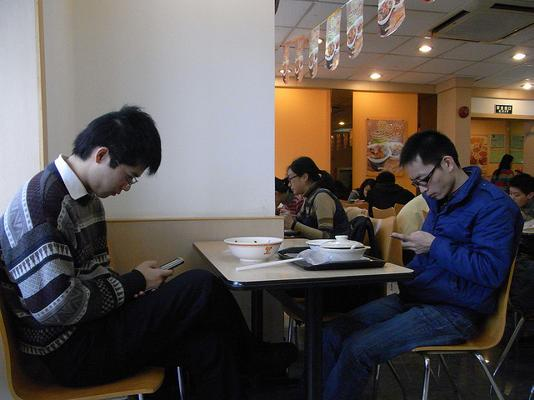person: (3, 105, 270, 398)
